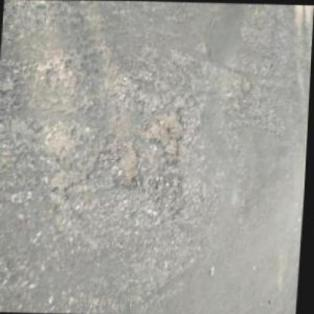Hueco: (144, 108, 187, 155), (119, 144, 144, 186)
